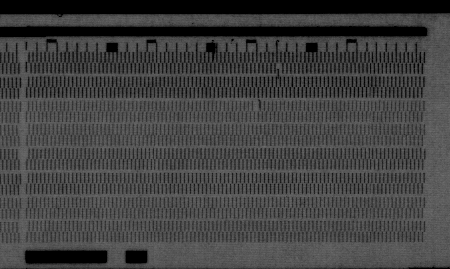Broken hole: (250, 99, 264, 113)
Oblique printing: (273, 63, 285, 79)
